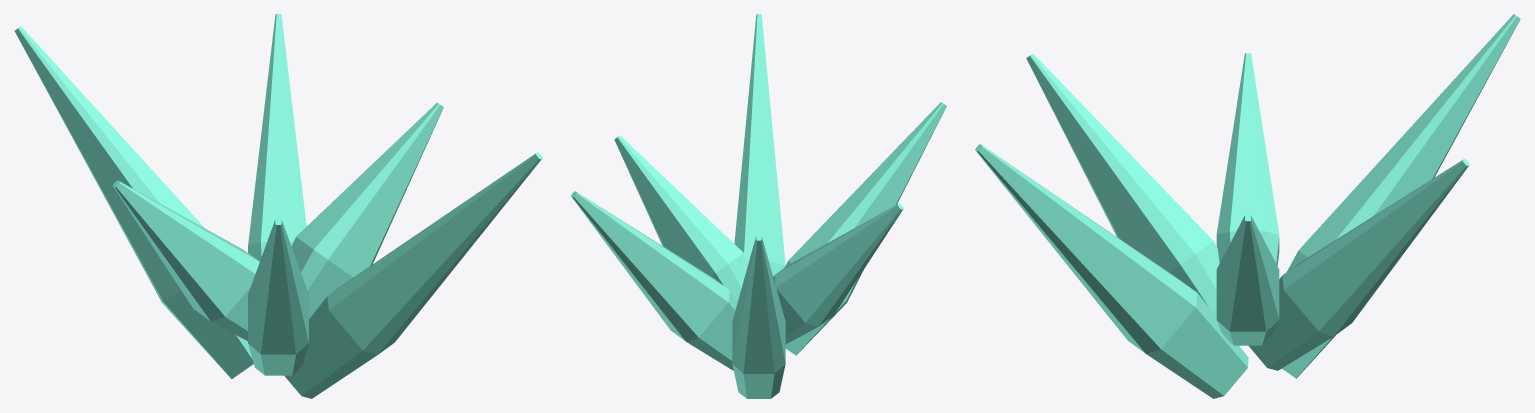
File: ChargeFlash.fbx
3 renders of one model, left to right at view 1: azimuth 30°, elevation 25°; view 2: azimuth 150°, elevation 25°; view 3: azimuth 270°, elevation 25°, orthographic. The views are drawn at different scales.
Parts seen in each view (by area): view 1: Shard.005, Shard.002, Shard, Shard.003, Shard.001, Shard.004; view 2: Shard.001, Shard.003, Shard.005, Shard, Shard.002, Shard.004; view 3: Shard.005, Shard.001, Shard.004, Shard.002, Shard.003, Shard.
Boxes of the visible parts, x1=… form: Shard.005: x1=284, y1=152, x2=542, y2=398; Shard.002: x1=14, y1=26, x2=253, y2=379; Shard: x1=291, y1=102, x2=443, y2=318; Shard.003: x1=113, y1=180, x2=259, y2=341; Shard.001: x1=248, y1=14, x2=306, y2=261; Shard.004: x1=248, y1=218, x2=308, y2=375; Shard.001: x1=571, y1=191, x2=737, y2=370; Shard.003: x1=773, y1=203, x2=903, y2=343; Shard.005: x1=734, y1=14, x2=785, y2=276; Shard: x1=614, y1=135, x2=748, y2=300; Shard.002: x1=732, y1=234, x2=785, y2=398; Shard.004: x1=784, y1=102, x2=946, y2=355; Shard.005: x1=975, y1=144, x2=1248, y2=398; Shard.001: x1=1248, y1=158, x2=1469, y2=370; Shard.004: x1=1026, y1=53, x2=1219, y2=316; Shard.002: x1=1282, y1=14, x2=1520, y2=378; Shard.003: x1=1216, y1=53, x2=1279, y2=265; Shard: x1=1216, y1=214, x2=1279, y2=345.
Bounding box in the file's own units: 0.0714 × 0.061 × 0.0992.
